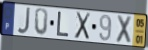0: (34, 7, 50, 37)
9: (98, 14, 112, 43)
J: (16, 7, 32, 36)
L: (55, 10, 70, 38)
X: (115, 14, 134, 46), (74, 11, 92, 41)
